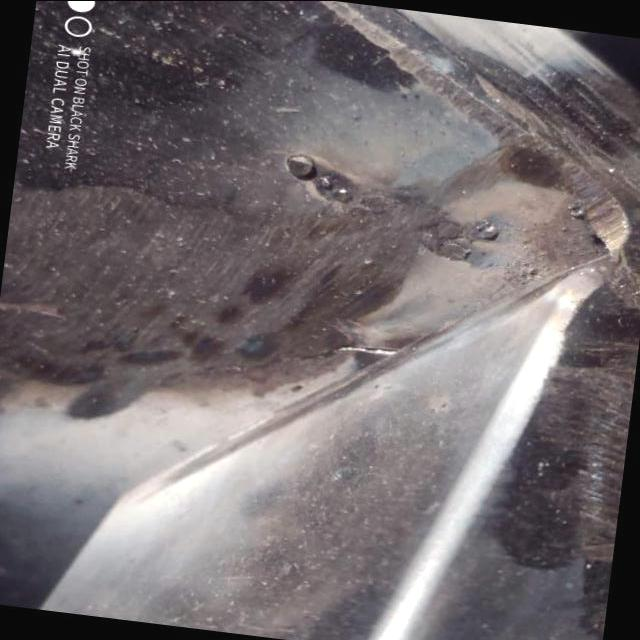defect: (203, 336, 409, 380)
